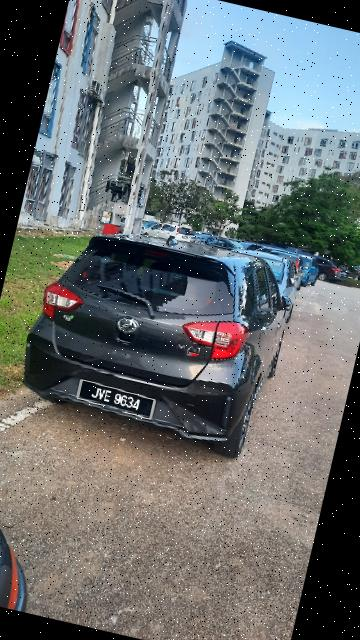License_Plate: (74, 377, 161, 424)
car: (13, 212, 304, 472)
